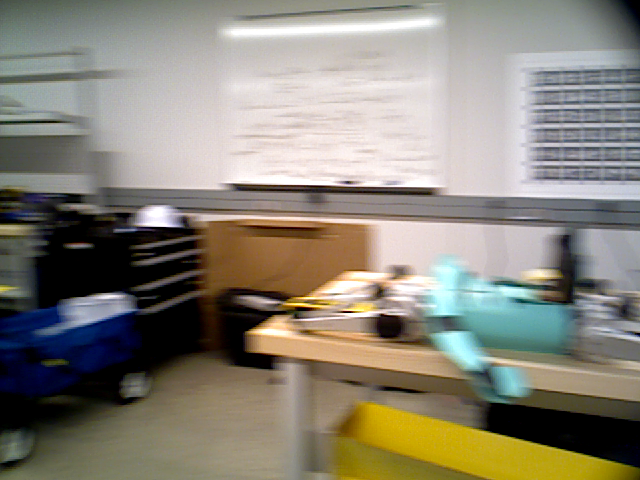painting4: (510, 55, 640, 196)
